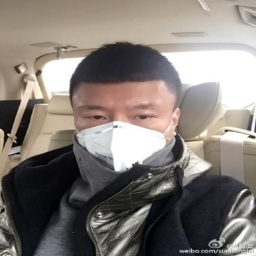correctlyWear: (69, 93, 181, 173)
